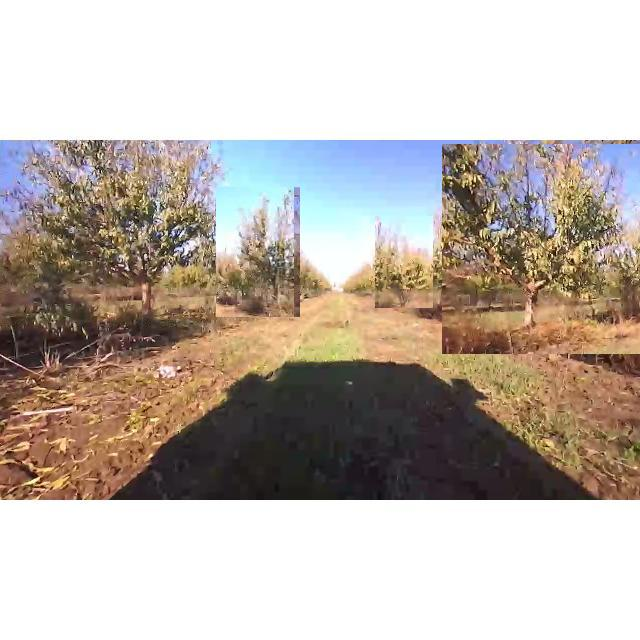direk: (442, 144, 640, 354), (0, 141, 222, 325), (216, 187, 300, 317), (375, 216, 433, 308)
